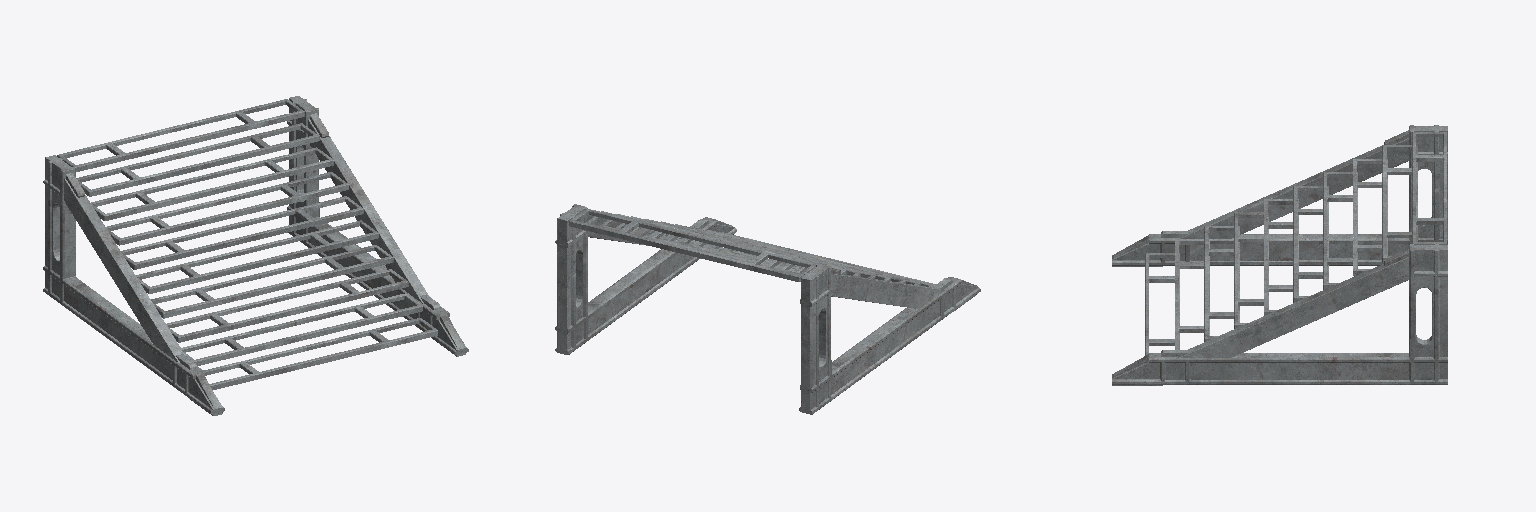
The picture shows the model from 3 angles: view 1: azimuth 30°, elevation 25°; view 2: azimuth 150°, elevation 25°; view 3: azimuth 270°, elevation 25°; orthographic projection.
Visible parts, largest first — view 1: treppe; view 2: treppe; view 3: treppe.
Part boxes in pixels (bbox=[...]): treppe: bbox=[43, 96, 468, 415]; treppe: bbox=[555, 204, 980, 414]; treppe: bbox=[1112, 125, 1447, 385].
Size of the model in its own units: 500 by 253 by 565.
1 materials, 1 textured.